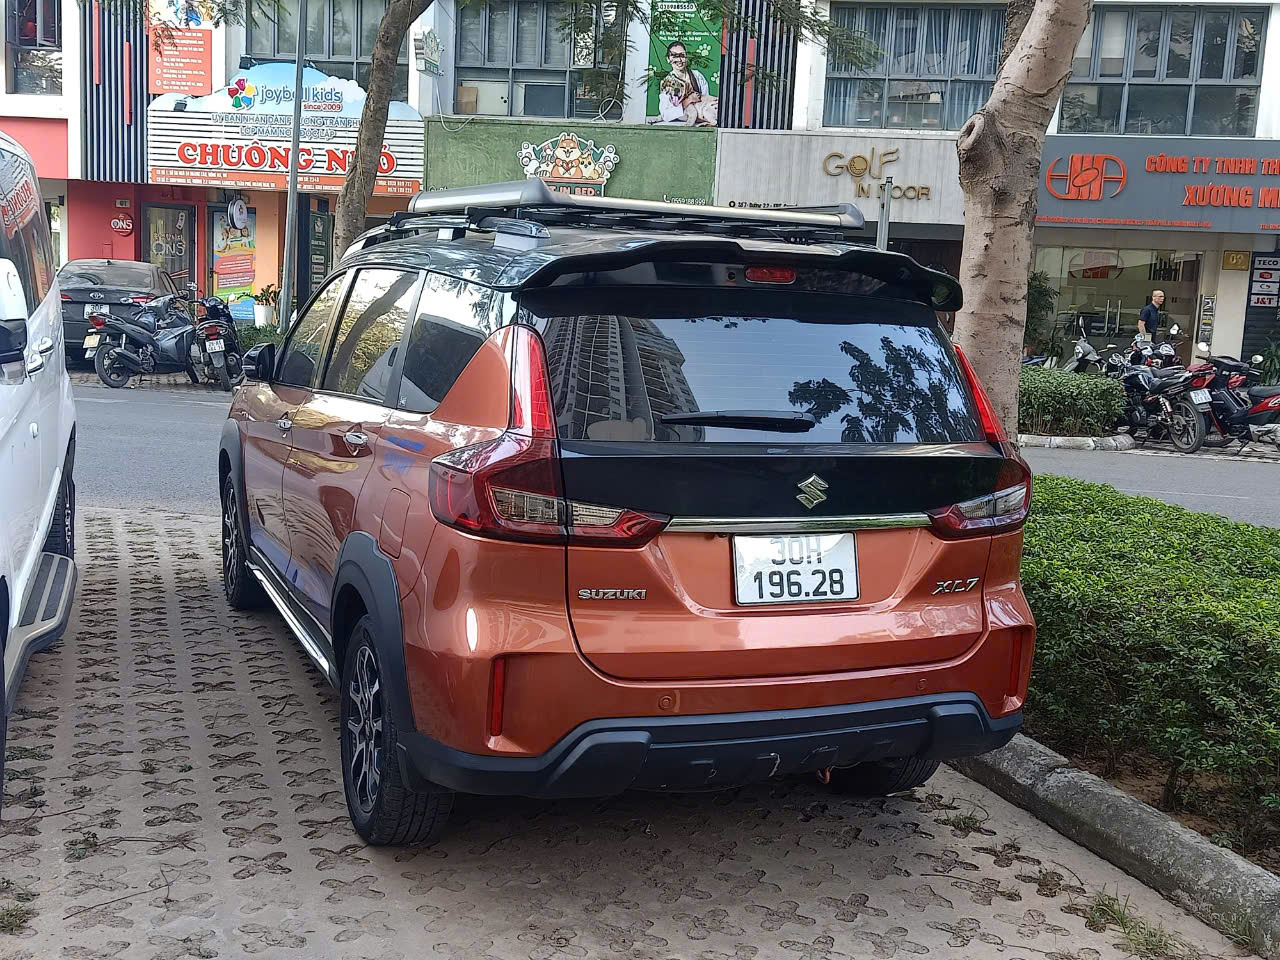bien_so: (734, 531, 859, 603)
